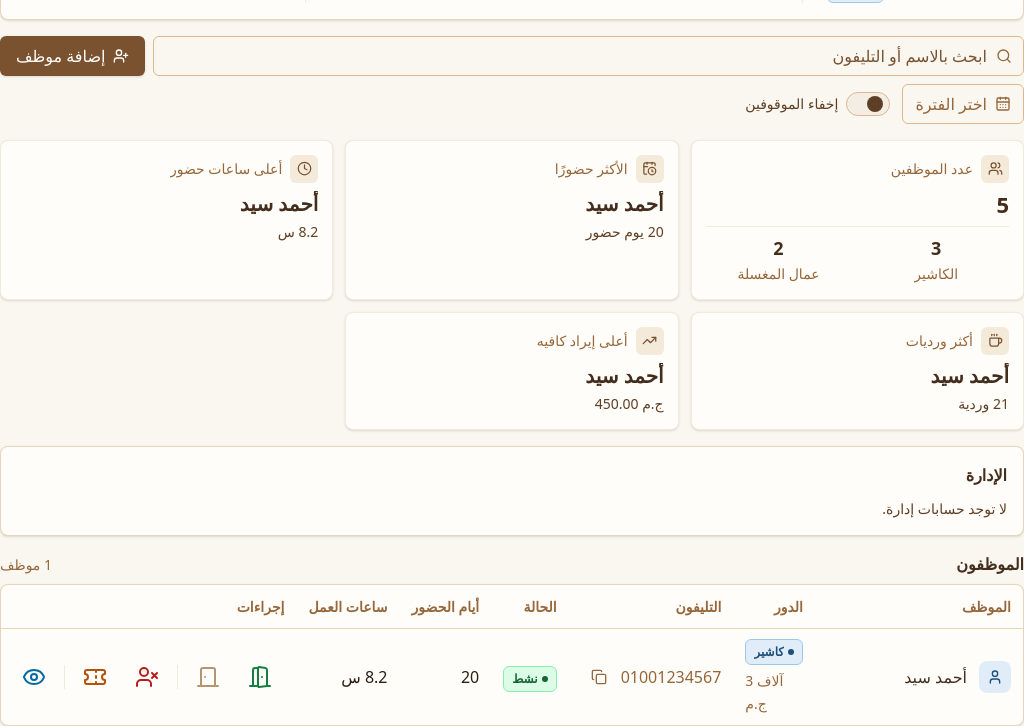
Test: EmployeesPage — manager › confirms every attendance action, not just the check-in
(page scrolled)
Click the button named "تسجيل غياب أحمد سيد" at (148, 677), box 124,653 -> 172,701
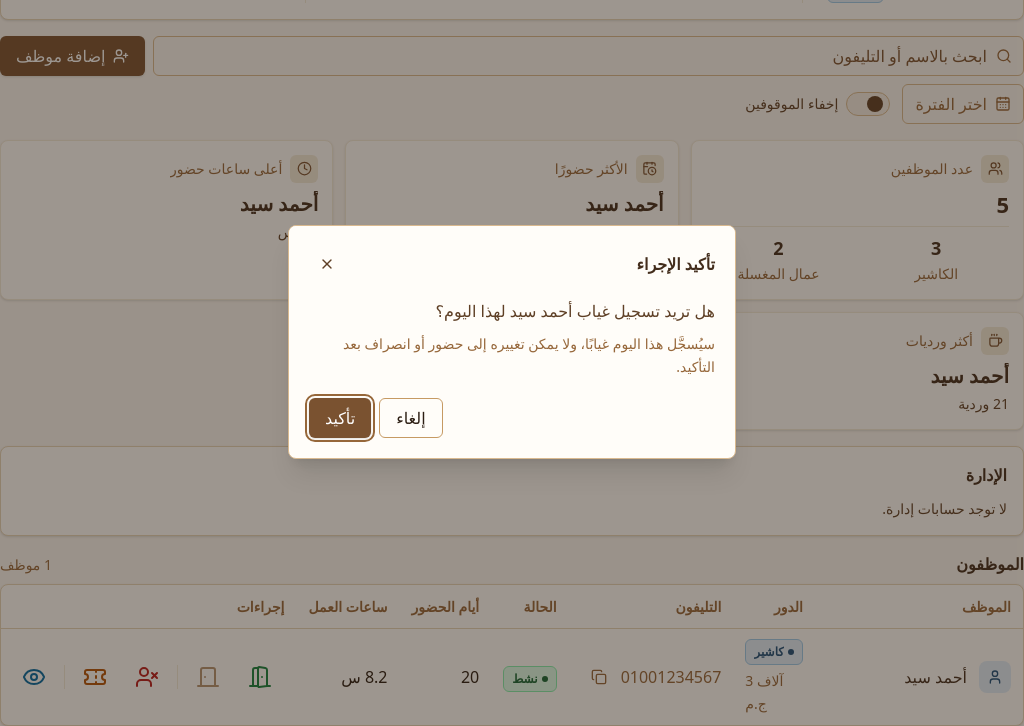
Expected: the text "هل تريد تسجيل غياب أحمد سيد لهذا اليوم؟" is shown, 436,300 -> 715,322
Expected: the text "سيُسجَّل هذا اليوم غيابًا، ولا يمكن تغييره إلى حضور أو انصراف بعد التأكيد." is shown, 309,332 -> 715,378
Click the button "إلغاء" at (411, 418), box 379,398 -> 443,438
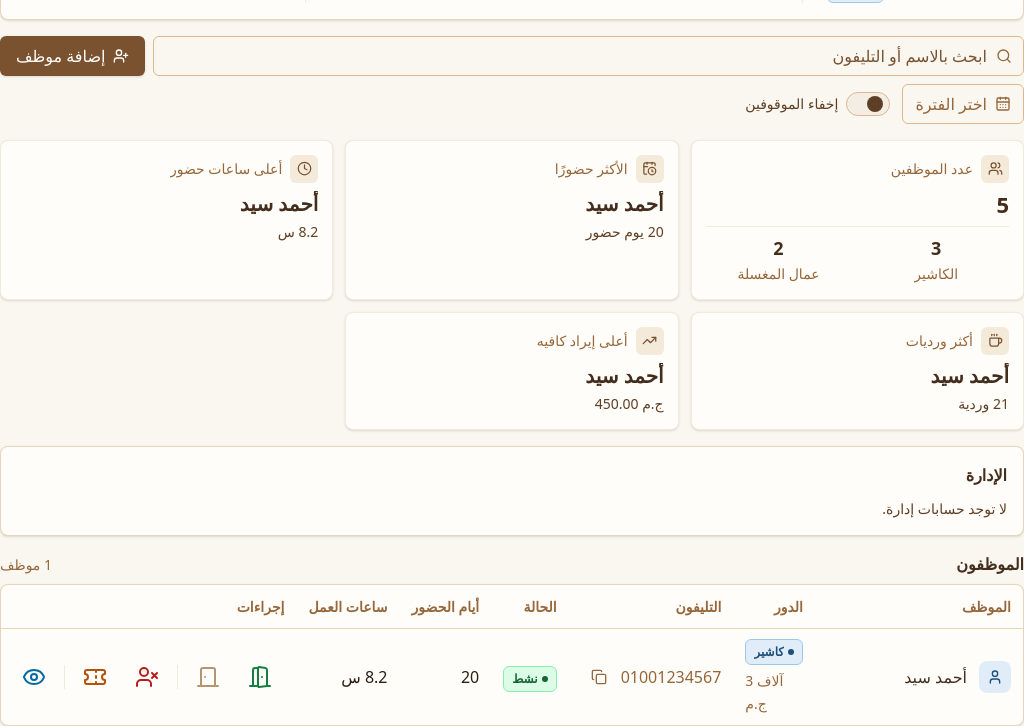
Expected: the dialog is gone
Click the button named "تسجيل إجازة أحمد سيد" at (96, 677), box 72,653 -> 120,701
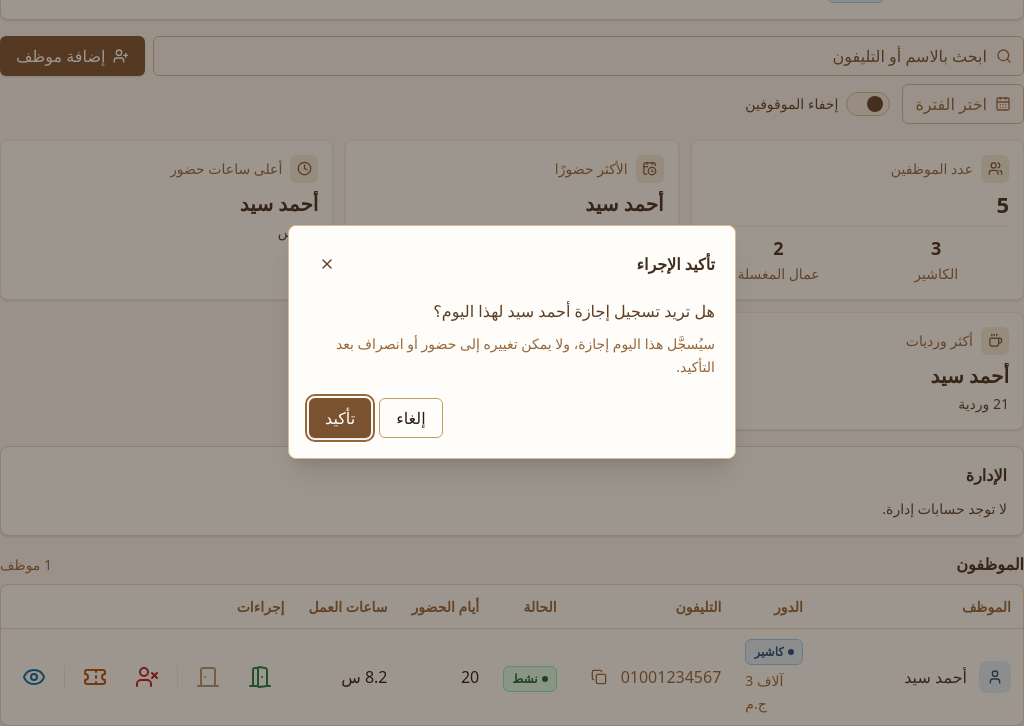
Expected: the text "هل تريد تسجيل إجازة أحمد سيد لهذا اليوم؟" is shown, 433,300 -> 715,322
Expected: the text "سيُسجَّل هذا اليوم إجازة، ولا يمكن تغييره إلى حضور أو انصراف بعد التأكيد." is shown, 309,332 -> 715,378
Click the button "إلغاء" at (411, 418), box 379,398 -> 443,438
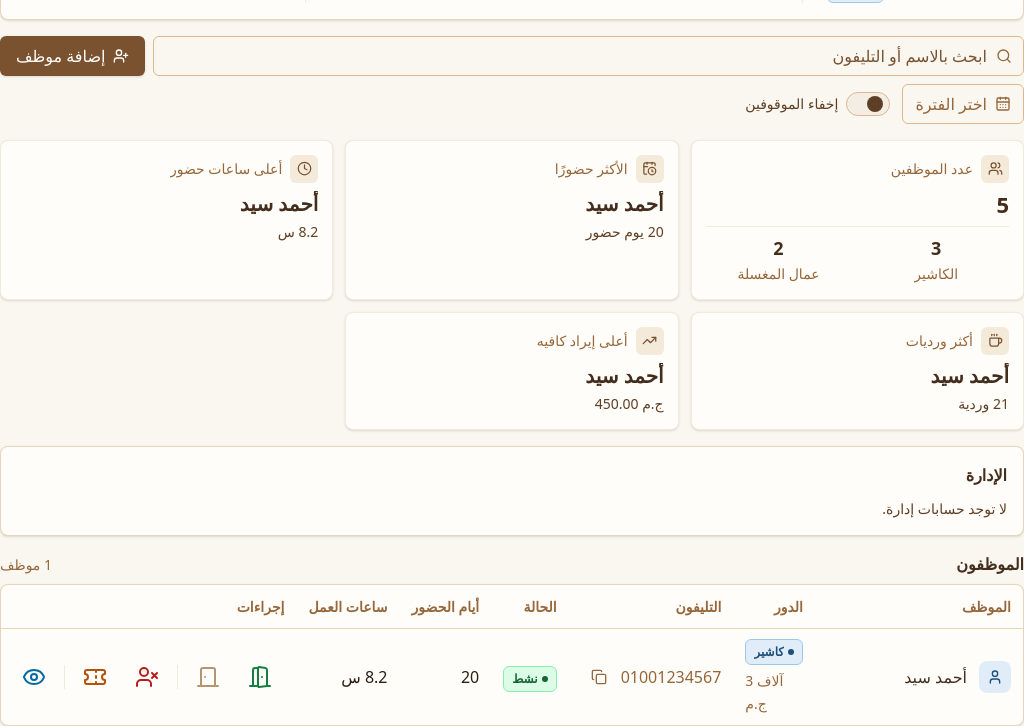
Expected: the dialog is gone
